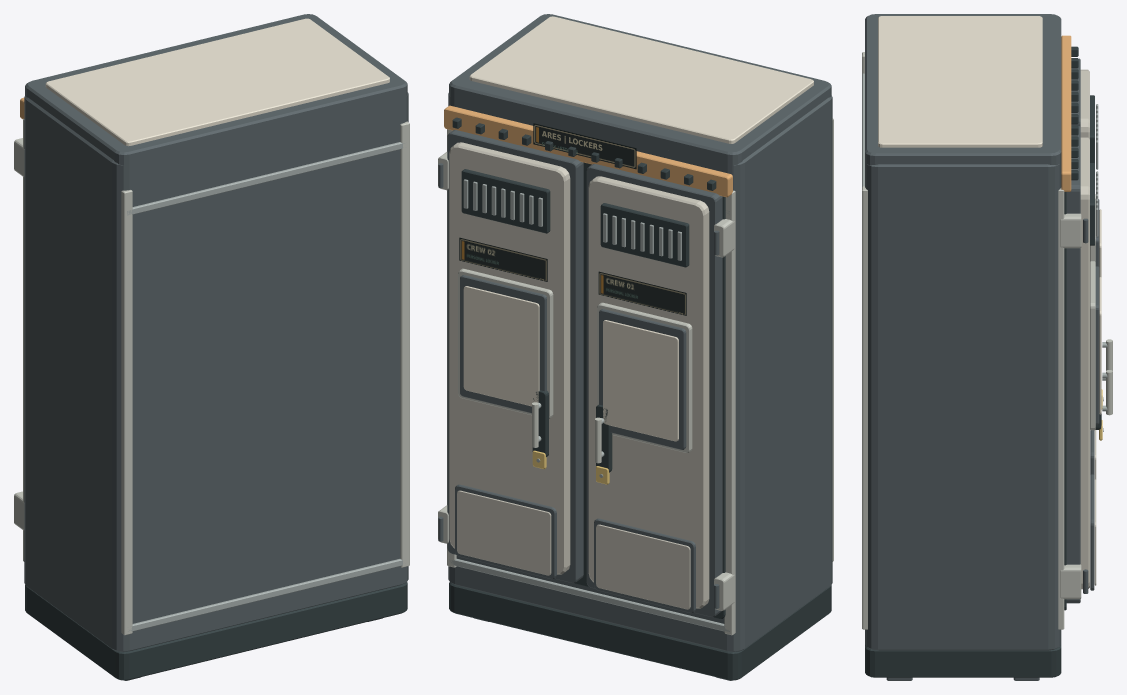
The model's file is locker_retro.glb.
The picture shows the model from 3 angles, left to right: view 1: azimuth 30°, elevation 25°; view 2: azimuth 150°, elevation 25°; view 3: azimuth 270°, elevation 25°; orthographic projection.
Parts seen in each view (by area): view 1: static_graphite__graphite, static_cream__cream, static_deep__deep, static_satinsteel__satinsteel, static_steel__steel, Locker_Door_L__satinsteel; view 2: static_graphite__graphite, Locker_Door_L__bone, Locker_Door_R__bone, static_cream__cream, static_deep__deep, Locker_Door_R__graphite, Locker_Door_L__graphite, Locker_Door_R__cream, Locker_Door_L__cream, static_satinsteel__satinsteel, static_ochre__ochre, Locker_Door_L__deep (+9 smaller); view 3: static_graphite__graphite, static_cream__cream, static_deep__deep, Locker_Door_R__graphite, static_satinsteel__satinsteel, Locker_Door_R__bone, Locker_Door_R__satinsteel, static_ochre__ochre, Locker_Door_L__bone, Locker_Door_L__graphite, Locker_Door_R__deep, Locker_Door_R__cream.
Boxes of the visible parts, <box> form: static_graphite__graphite: <box>24,14,408,680</box>; static_cream__cream: <box>45,18,389,146</box>; static_deep__deep: <box>25,582,407,680</box>; static_satinsteel__satinsteel: <box>23,118,409,635</box>; static_steel__steel: <box>127,142,405,631</box>; Locker_Door_L__satinsteel: <box>14,138,24,530</box>; static_graphite__graphite: <box>448,14,832,680</box>; Locker_Door_L__bone: <box>588,176,709,609</box>; Locker_Door_R__bone: <box>449,142,570,575</box>; static_cream__cream: <box>469,16,813,143</box>; static_deep__deep: <box>449,117,831,680</box>; Locker_Door_R__graphite: <box>438,130,583,583</box>; Locker_Door_L__graphite: <box>586,164,722,617</box>; Locker_Door_R__cream: <box>463,286,539,406</box>; Locker_Door_L__cream: <box>603,320,678,441</box>; static_satinsteel__satinsteel: <box>447,118,833,635</box>; static_ochre__ochre: <box>444,105,732,197</box>; Locker_Door_L__deep: <box>596,203,689,472</box>; static_graphite__graphite: <box>865,14,1061,680</box>; static_cream__cream: <box>878,16,1042,147</box>; static_deep__deep: <box>865,46,1078,677</box>; Locker_Door_R__graphite: <box>1066,126,1099,603</box>; static_satinsteel__satinsteel: <box>862,52,1064,629</box>; Locker_Door_R__bone: <box>1080,137,1096,589</box>; Locker_Door_R__satinsteel: <box>1060,213,1112,599</box>; static_ochre__ochre: <box>1061,35,1071,191</box>; Locker_Door_L__bone: <box>1080,69,1096,479</box>; Locker_Door_L__graphite: <box>1071,58,1099,474</box>; Locker_Door_R__deep: <box>1090,163,1101,429</box>; Locker_Door_R__cream: <box>1099,277,1101,414</box>.
Bounding box in the file's own units: 1.17 × 2.06 × 0.868.
11 materials, 3 textured.
